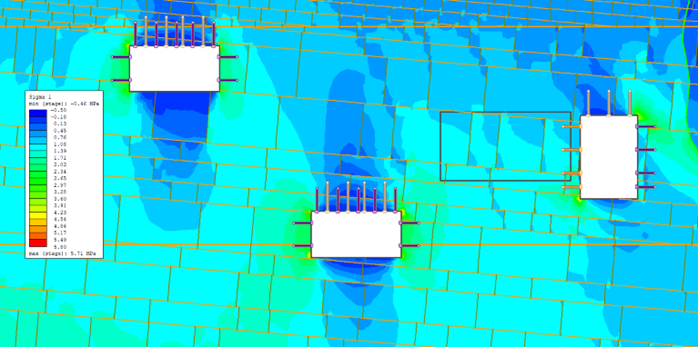crown: (156, 36, 188, 44), (341, 203, 374, 210), (597, 108, 620, 114)
label: (24, 91, 103, 258)
tunnel-opening: (580, 117, 637, 197), (311, 210, 400, 258), (129, 44, 219, 90)
